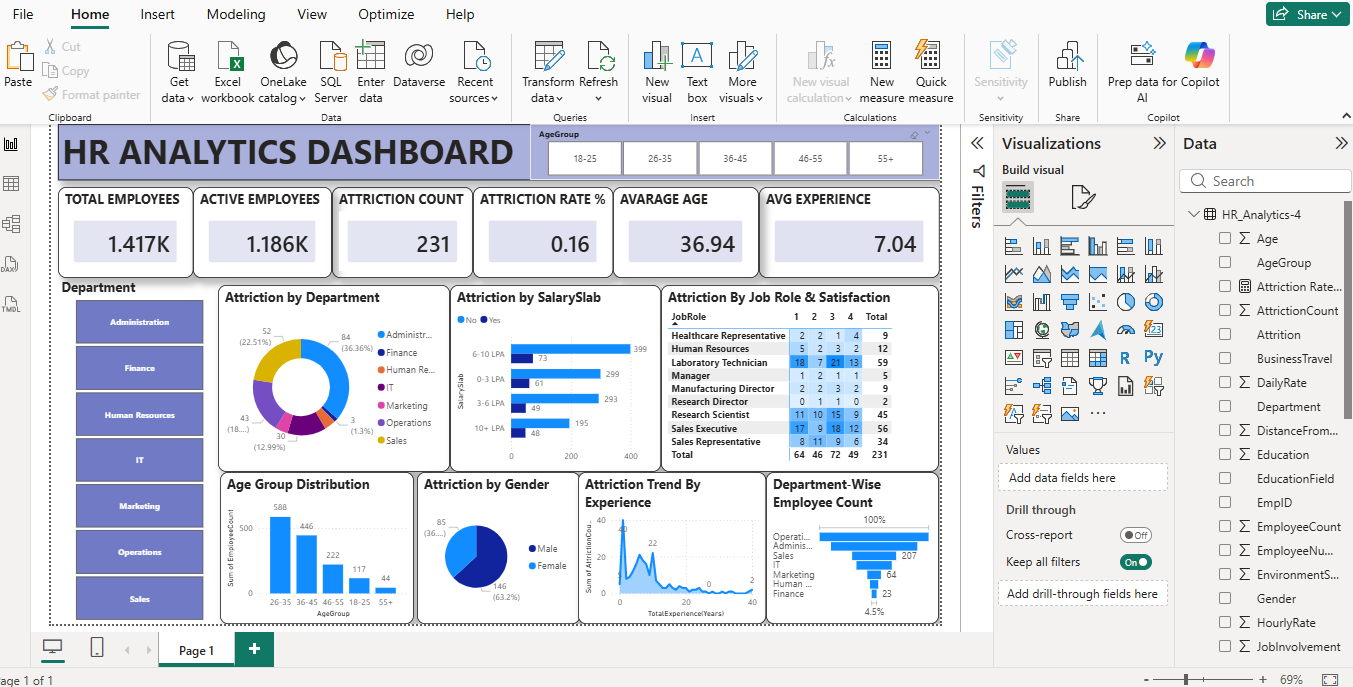

What the dashboard file says about the page in this screenshot:
{"tool":"powerbi","page":{"name":"Page 1","canvas":[1280,720],"ordinal":0},"visuals":[{"type":"textbox","box":[10.1,0,1269.9,80.6],"z":0},{"type":"slicer","fields":{"Values":["HR_Analytics-4.AgeGroup"]},"box":[690.4,0,589.6,80.6],"z":1},{"type":"cardVisual","title":"TOTAL EMPLOYEES","fields":{"Data":["CountNonNull(HR_Analytics-4.EmpID)"]},"box":[10.1,90.7,194.9,131],"z":2},{"type":"cardVisual","title":"ACTIVE EMPLOYEES","fields":{"Data":["CountNonNull(HR_Analytics-4.EmployeeCount)"]},"box":[204.9,90.7,199.9,131],"z":3},{"type":"cardVisual","title":"ATTRICTION COUNT","fields":{"Data":["Sum(HR_Analytics-4.AttrictionCount)"]},"box":[404.8,90.7,203.3,131],"z":4},{"type":"cardVisual","title":"ATTRICTION RATE %","fields":{"Data":["HR_Analytics-4.Attriction Rate %"]},"box":[608.1,90.7,201.6,131],"z":5},{"type":"cardVisual","title":"AVG EXPERIENCE","fields":{"Data":["Avg(HR_Analytics-4.YearsatCompany)"]},"box":[1019.6,90.7,260.4,131],"z":6},{"type":"cardVisual","title":"AVARAGE AGE","fields":{"Data":["Avg(HR_Analytics-4.Age)"]},"box":[809.7,90.7,210,131],"z":7},{"type":"donutChart","title":"Attriction by Department","fields":{"Series":["HR_Analytics-4.Department"],"Y":["Sum(HR_Analytics-4.AttrictionCount)"]},"box":[240.5,231.8,334.1,269.3],"z":8},{"type":"slicer","title":"Department","fields":{"Values":["HR_Analytics-4.Department"]},"box":[10.1,221.7,233.5,498.9],"z":9},{"type":"clusteredBarChart","title":"Attriction by SalarySlab","fields":{"Category":["HR_Analytics-4.SalarySlab"],"Y":["CountNonNull(HR_Analytics-4.EmpID)"],"Series":["HR_Analytics-4.Attrition"]},"box":[574.6,231.8,303.8,269.3],"z":10},{"type":"pivotTable","title":"Attriction By Job Role & Satisfaction","fields":{"Rows":["HR_Analytics-4.JobRole"],"Values":["Sum(HR_Analytics-4.AttrictionCount)"],"Columns":["HR_Analytics-4.JobSatisfaction"]},"box":[878.4,231.8,400.3,269.3],"z":11},{"type":"columnChart","title":"Age Group Distribution","fields":{"Category":["HR_Analytics-4.AgeGroup"],"Y":["Sum(HR_Analytics-4.EmployeeCount)"]},"box":[243.4,501.1,279.4,218.9],"z":12},{"type":"pieChart","title":"Attriction by Gender","fields":{"Category":["HR_Analytics-4.Gender"],"Y":["Sum(HR_Analytics-4.AttrictionCount)"]},"box":[526.5,501.2,235.5,218.7],"z":13},{"type":"areaChart","title":"Attriction Trend By Experience","fields":{"Category":["HR_Analytics-4.TotalExperience(Years)"],"Y":["Sum(HR_Analytics-4.AttrictionCount)"]},"box":[758.9,501.1,270.7,218.9],"z":14},{"type":"funnel","title":"Department-Wise Employee Count","fields":{"Category":["HR_Analytics-4.Department"],"Y":["CountNonNull(HR_Analytics-4.EmpID)"]},"box":[1029.6,501.1,249.1,218.9],"z":15}]}

Visuals, with their boxes on the page's 1280x720 design canvas (x1, y1, x2, y2). These are canvas units, not pixel positions in the 1353x687 screenshot, which may show the page scaled, cropped or inside an application window:
textbox: bbox=[10, 0, 1280, 81]
slicer - HR_Analytics-4.AgeGroup: bbox=[690, 0, 1280, 81]
"TOTAL EMPLOYEES" cardVisual: bbox=[10, 91, 205, 222]
"ACTIVE EMPLOYEES" cardVisual: bbox=[205, 91, 405, 222]
"ATTRICTION COUNT" cardVisual: bbox=[405, 91, 608, 222]
"ATTRICTION RATE %" cardVisual: bbox=[608, 91, 810, 222]
"AVG EXPERIENCE" cardVisual: bbox=[1020, 91, 1280, 222]
"AVARAGE AGE" cardVisual: bbox=[810, 91, 1020, 222]
"Attriction by Department" donutChart: bbox=[240, 232, 575, 501]
"Department" slicer: bbox=[10, 222, 244, 721]
"Attriction by SalarySlab" clusteredBarChart: bbox=[575, 232, 878, 501]
"Attriction By Job Role & Satisfaction" pivotTable: bbox=[878, 232, 1279, 501]
"Age Group Distribution" columnChart: bbox=[243, 501, 523, 720]
"Attriction by Gender" pieChart: bbox=[526, 501, 762, 720]
"Attriction Trend By Experience" areaChart: bbox=[759, 501, 1030, 720]
"Department-Wise Employee Count" funnel: bbox=[1030, 501, 1279, 720]
